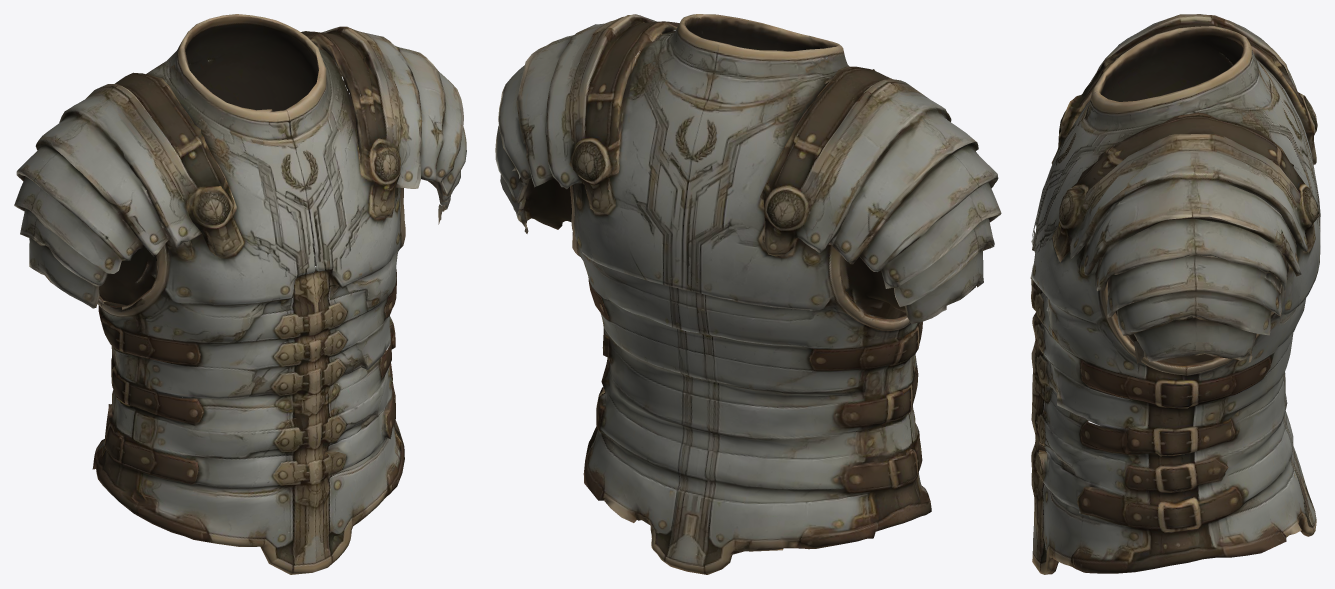
Rendered from metal armor 3d model.glb.
3 views of the same model, side by side, from view 1: azimuth 30°, elevation 25°; view 2: azimuth 150°, elevation 25°; view 3: azimuth 270°, elevation 25° (orthographic). The views are drawn at different scales.
Visible parts, largest first — view 1: tripo_node_eb4298ae; view 2: tripo_node_eb4298ae; view 3: tripo_node_eb4298ae.
Boxes of the visible parts, x1,y1,x2,y2 form: tripo_node_eb4298ae: (14,14,466,574); tripo_node_eb4298ae: (495,14,1001,574); tripo_node_eb4298ae: (1030,14,1320,574).
Bounding box in the file's own units: 90.25 × 99.58 × 50.36.
1 material, 1 textured.
